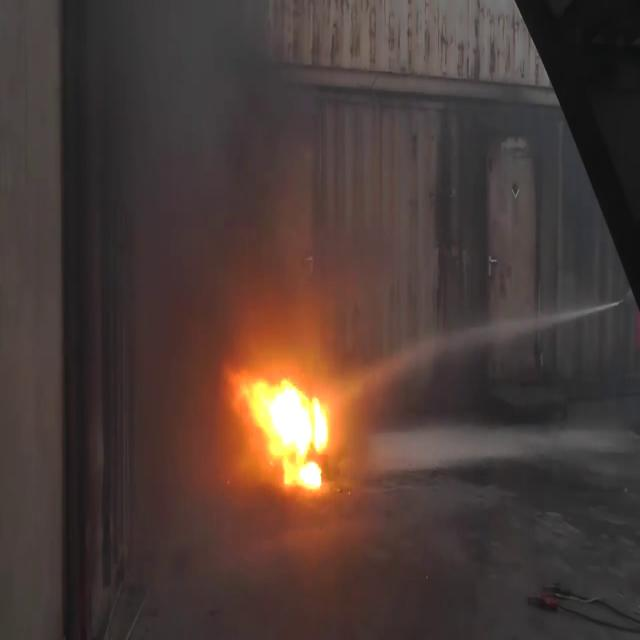Fire: (231, 362, 339, 495)
Smoke: (92, 0, 361, 349)
